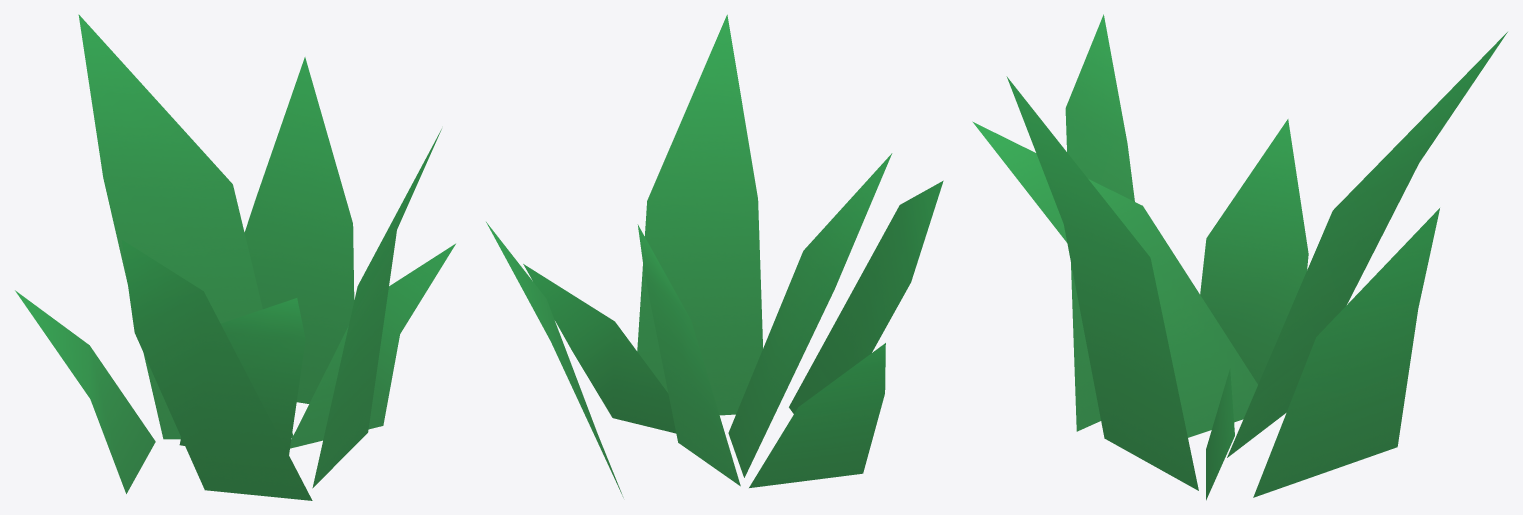
File: Forest_Grass_04.gltf
3 renders of one model, left to right at view 1: azimuth 30°, elevation 25°; view 2: azimuth 150°, elevation 25°; view 3: azimuth 270°, elevation 25°, orthographic. The views are drawn at different scales.
Visible parts, largest first — view 1: Forest_Grass_04; view 2: Forest_Grass_04; view 3: Forest_Grass_04.
Boxes of the visible parts, x1,y1,x2,y2 form: Forest_Grass_04: [15, 14, 455, 500]; Forest_Grass_04: [486, 14, 943, 497]; Forest_Grass_04: [972, 14, 1507, 500].
Bounding box in the file's own units: 0.1365 × 0.1175 × 0.1399.
Materials: 1 (1 with a texture image).
